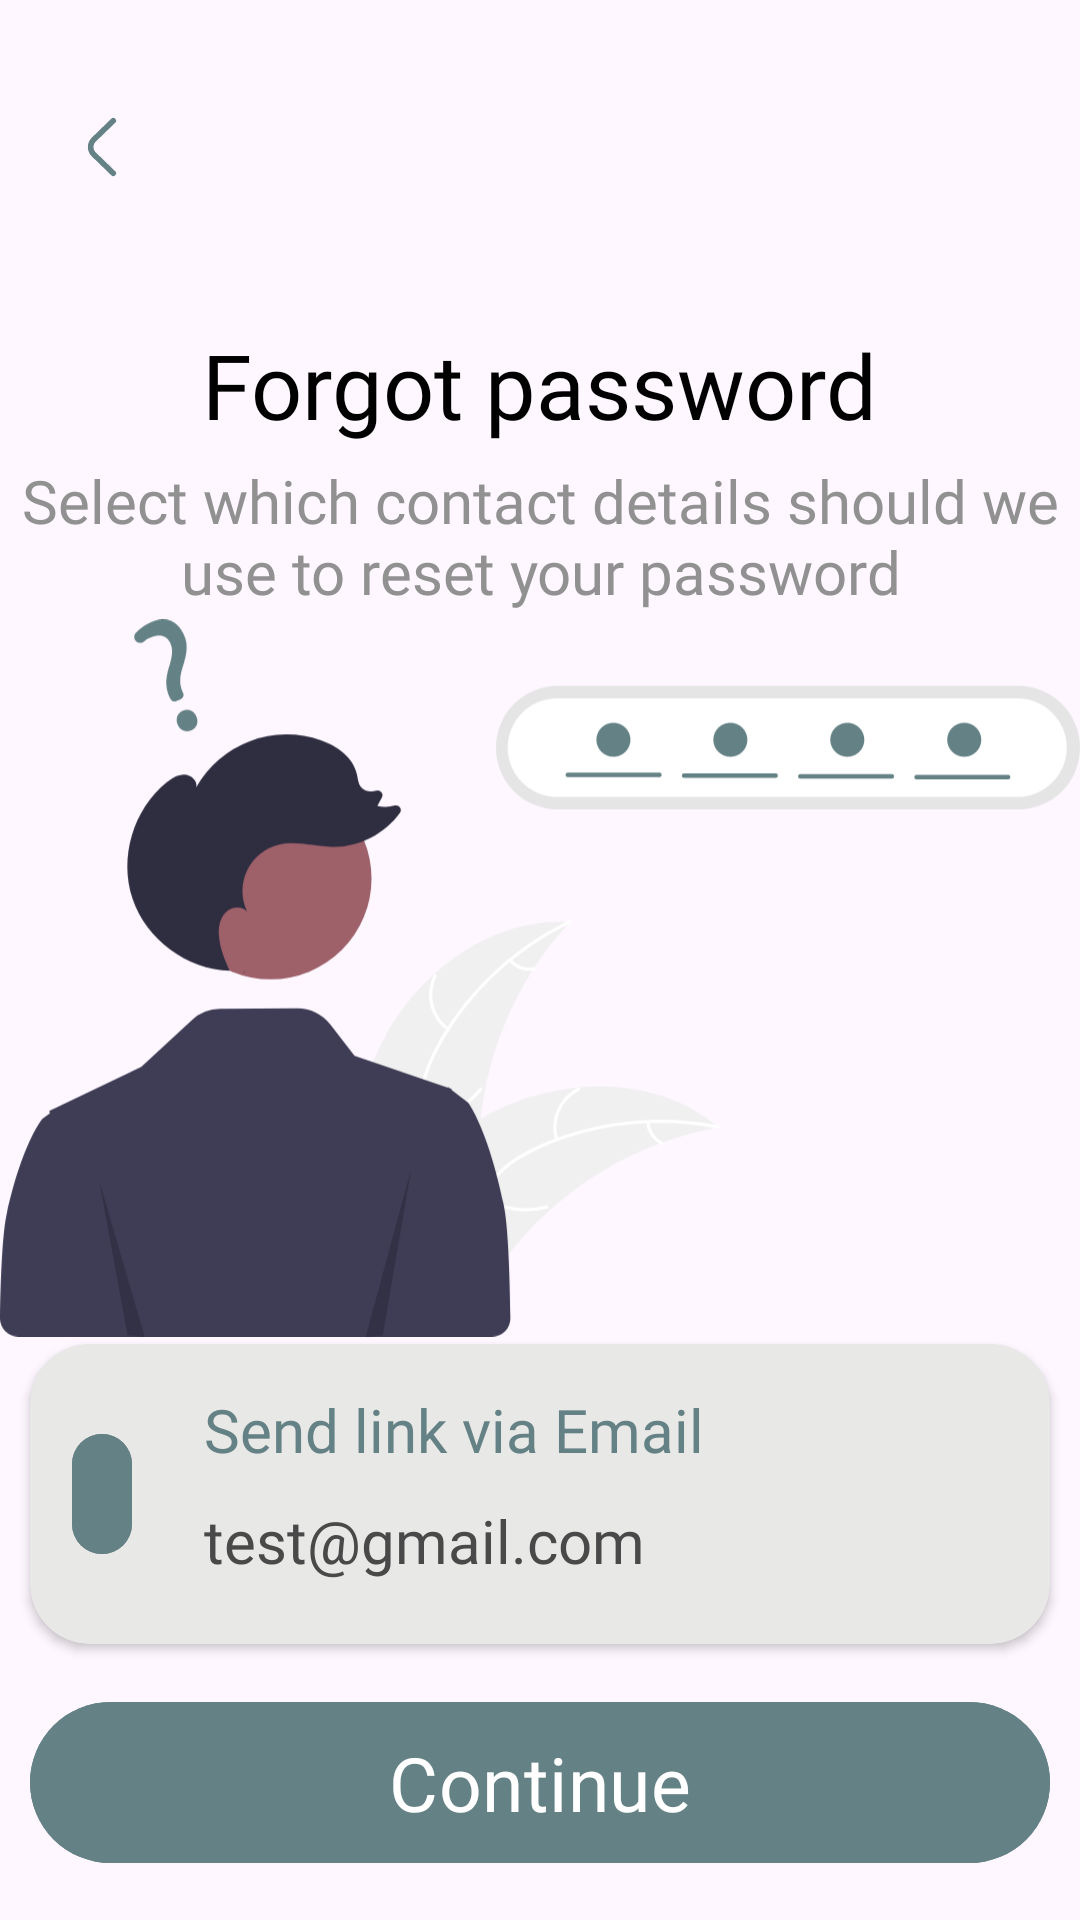

Point at icon controls on the screen. Image size 1080×1920, points as (x,y).
left: (102,147)
